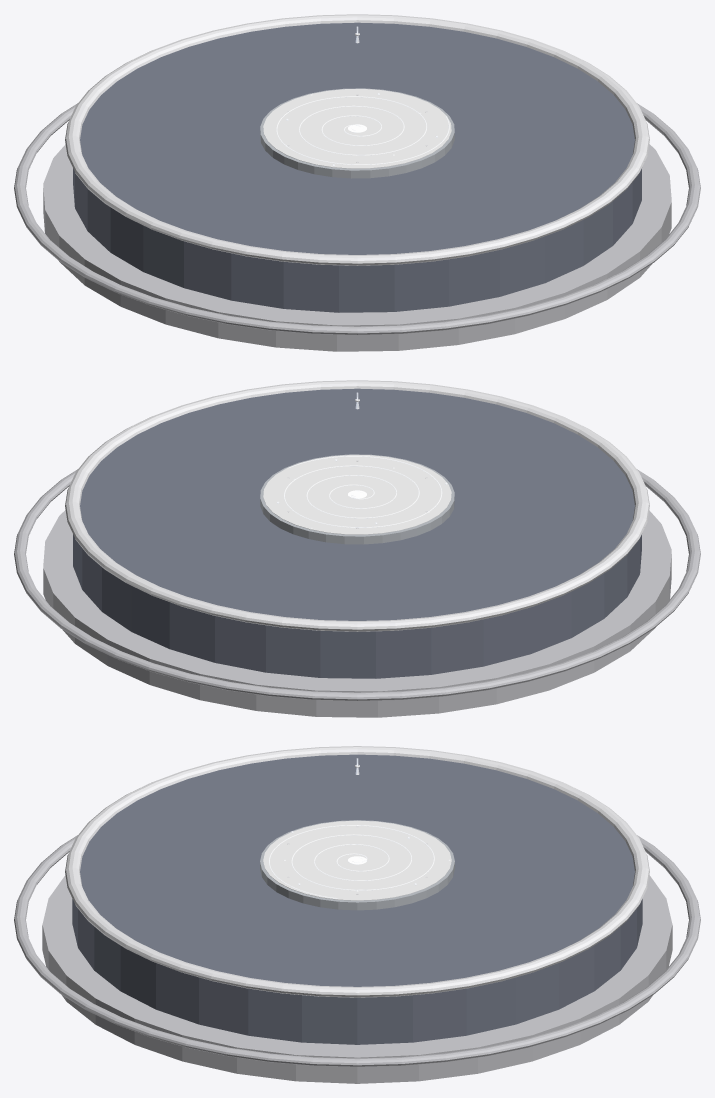
Rendered from PRCoat.glb.
3 renders of one model, top to bottom at view 1: azimuth 30°, elevation 25°; view 2: azimuth 150°, elevation 25°; view 3: azimuth 270°, elevation 25°, orthographic.
Parts seen in each view (by area): view 1: Process_Bowl, Base_Plate, Bowl_Rim, Silicon_Wafer, Dome_Base_Ring, Wafer_Chuck, CoatSpiral; view 2: Process_Bowl, Base_Plate, Bowl_Rim, Silicon_Wafer, Dome_Base_Ring, Wafer_Chuck, CoatSpiral; view 3: Process_Bowl, Base_Plate, Bowl_Rim, Silicon_Wafer, Dome_Base_Ring, Wafer_Chuck, CoatSpiral.
Boxes of the visible parts, box(x1,y1,x2,y2) form: Process_Bowl: box(73, 22, 641, 312); Base_Plate: box(43, 144, 671, 351); Bowl_Rim: box(65, 14, 649, 265); Silicon_Wafer: box(263, 89, 451, 168); Dome_Base_Ring: box(14, 103, 700, 335); Wafer_Chuck: box(260, 88, 454, 178); CoatSpiral: box(276, 96, 449, 164); Process_Bowl: box(73, 388, 641, 678); Base_Plate: box(43, 510, 671, 717); Bowl_Rim: box(65, 380, 649, 631); Silicon_Wafer: box(263, 455, 451, 534); Dome_Base_Ring: box(14, 469, 700, 701); Wafer_Chuck: box(260, 454, 454, 544); CoatSpiral: box(284, 456, 442, 527); Process_Bowl: box(72, 754, 642, 1044); Base_Plate: box(42, 875, 672, 1083); Bowl_Rim: box(65, 746, 649, 997); Silicon_Wafer: box(263, 820, 451, 900); Dome_Base_Ring: box(14, 835, 700, 1066); Wafer_Chuck: box(260, 820, 454, 910); CoatSpiral: box(269, 825, 434, 898).
Size of the model in its own units: 1.42 by 0.438 by 1.42.
